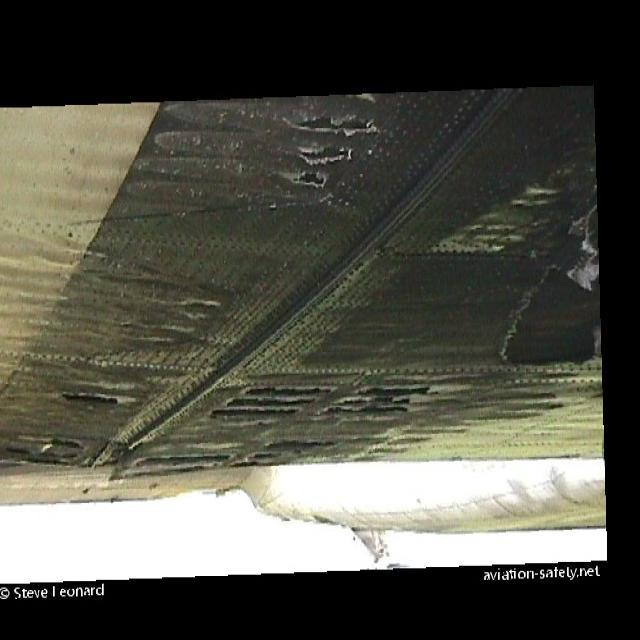crack: (286, 112, 378, 192)
